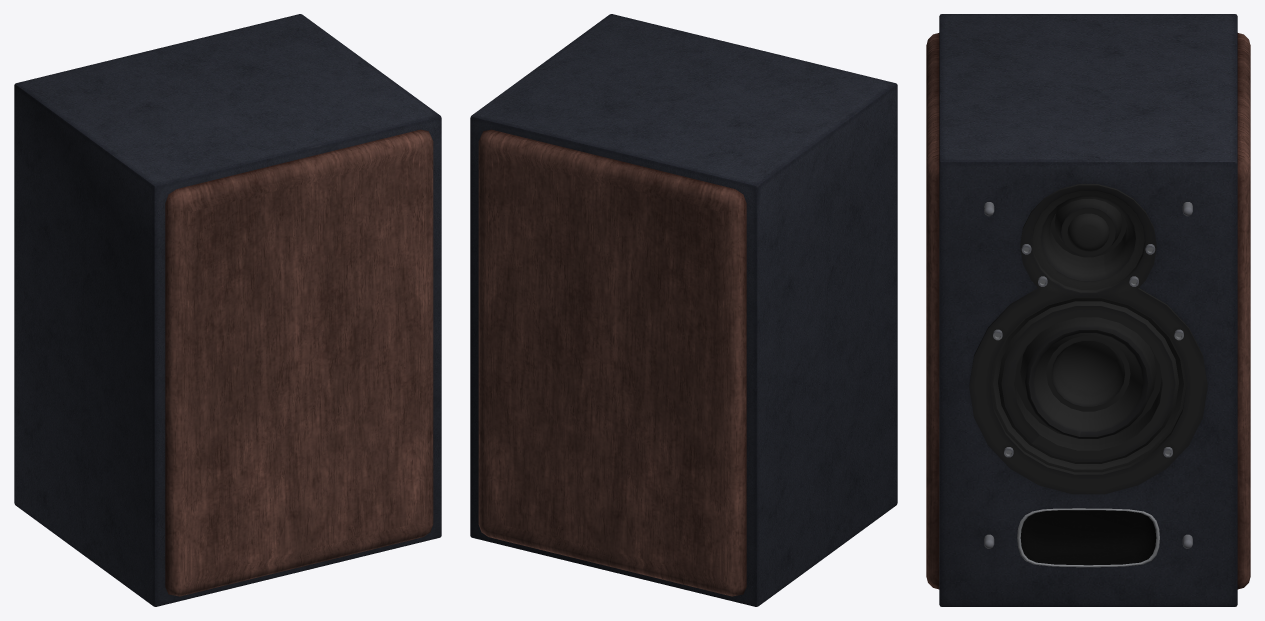
File: lowpoly_audio_speaker.glb
3 renders of one model, left to right at view 1: azimuth 30°, elevation 25°; view 2: azimuth 150°, elevation 25°; view 3: azimuth 270°, elevation 25°, orthographic. The views are drawn at different scales.
Parts seen in each view (by area): view 1: Cube; view 2: Cube; view 3: Cube.
Boxes of the visible parts, <box> form: Cube: <box>14,14,441,606</box>; Cube: <box>470,14,897,606</box>; Cube: <box>926,14,1250,606</box>.
Size of the model in its own units: 0.3733 by 0.4999 by 0.3294.
1 material, 1 textured.
